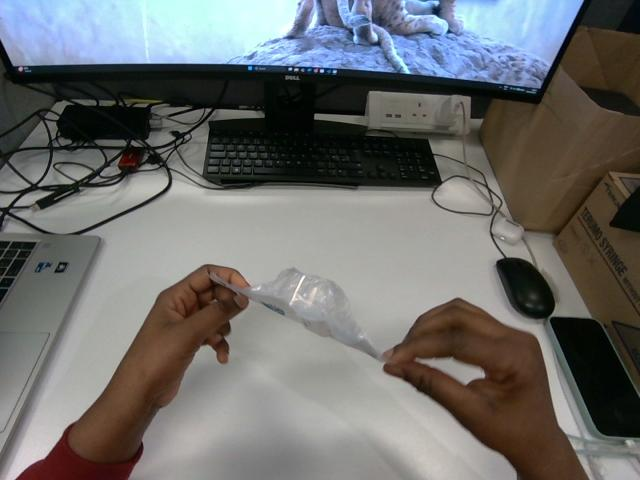gallipot: (210, 268, 382, 360)
